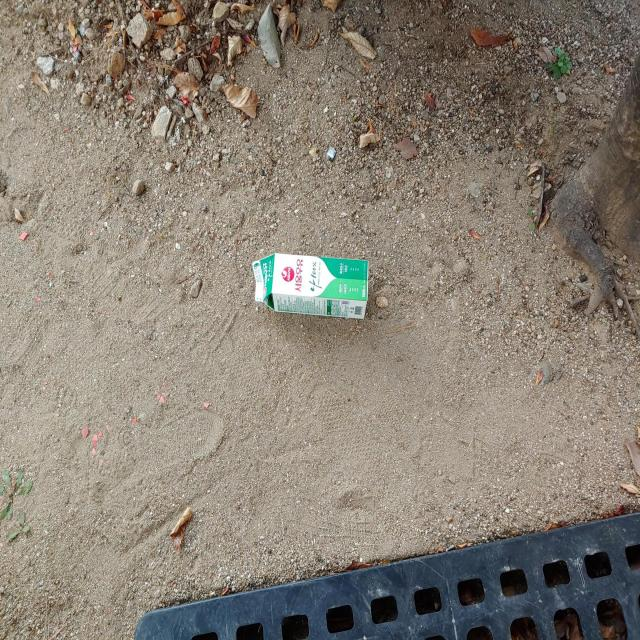paperpack: (252, 253, 369, 318)
